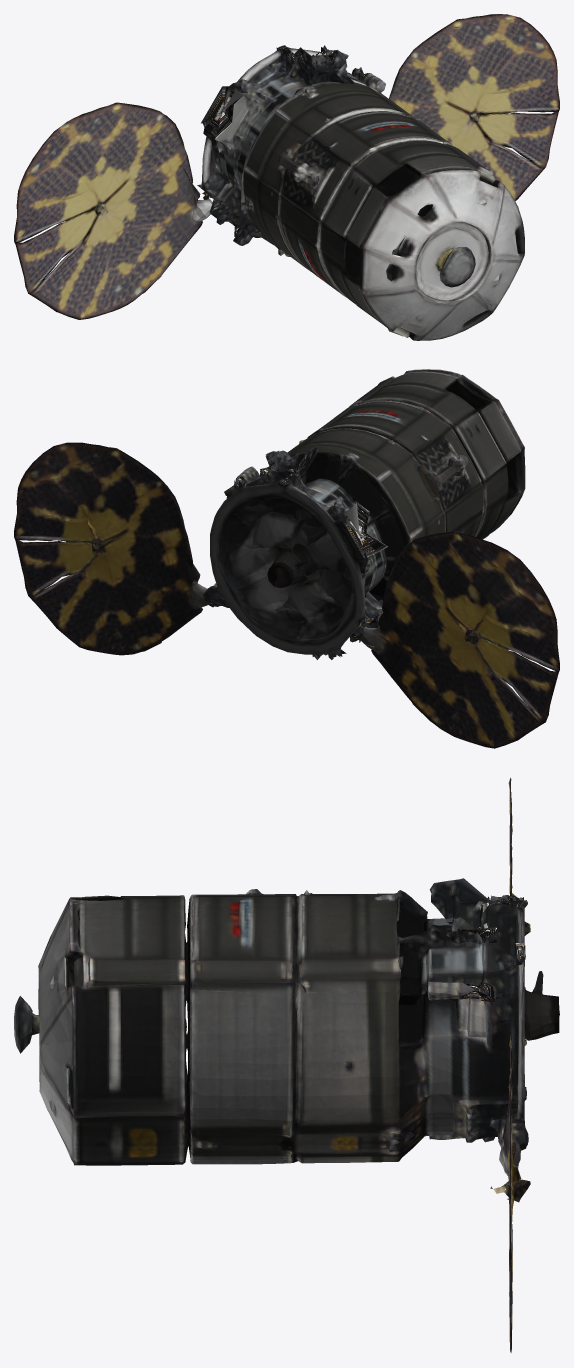
The model's file is cygnus-textured.glb.
3 renders of one model, top to bottom at view 1: azimuth 30°, elevation 25°; view 2: azimuth 150°, elevation 25°; view 3: azimuth 270°, elevation 25°, orthographic. The views are drawn at different scales.
Parts seen in each view (by area): view 1: cygnus-textured; view 2: cygnus-textured; view 3: cygnus-textured.
Part boxes in pixels (box(x1,y1,x2,y2)): cygnus-textured: box(14, 14, 559, 340); cygnus-textured: box(14, 369, 559, 748); cygnus-textured: box(14, 777, 559, 1352).
Size of the model in its own units: 10.37 by 4.29 by 6.39.
Materials: 1 (1 with a texture image).
